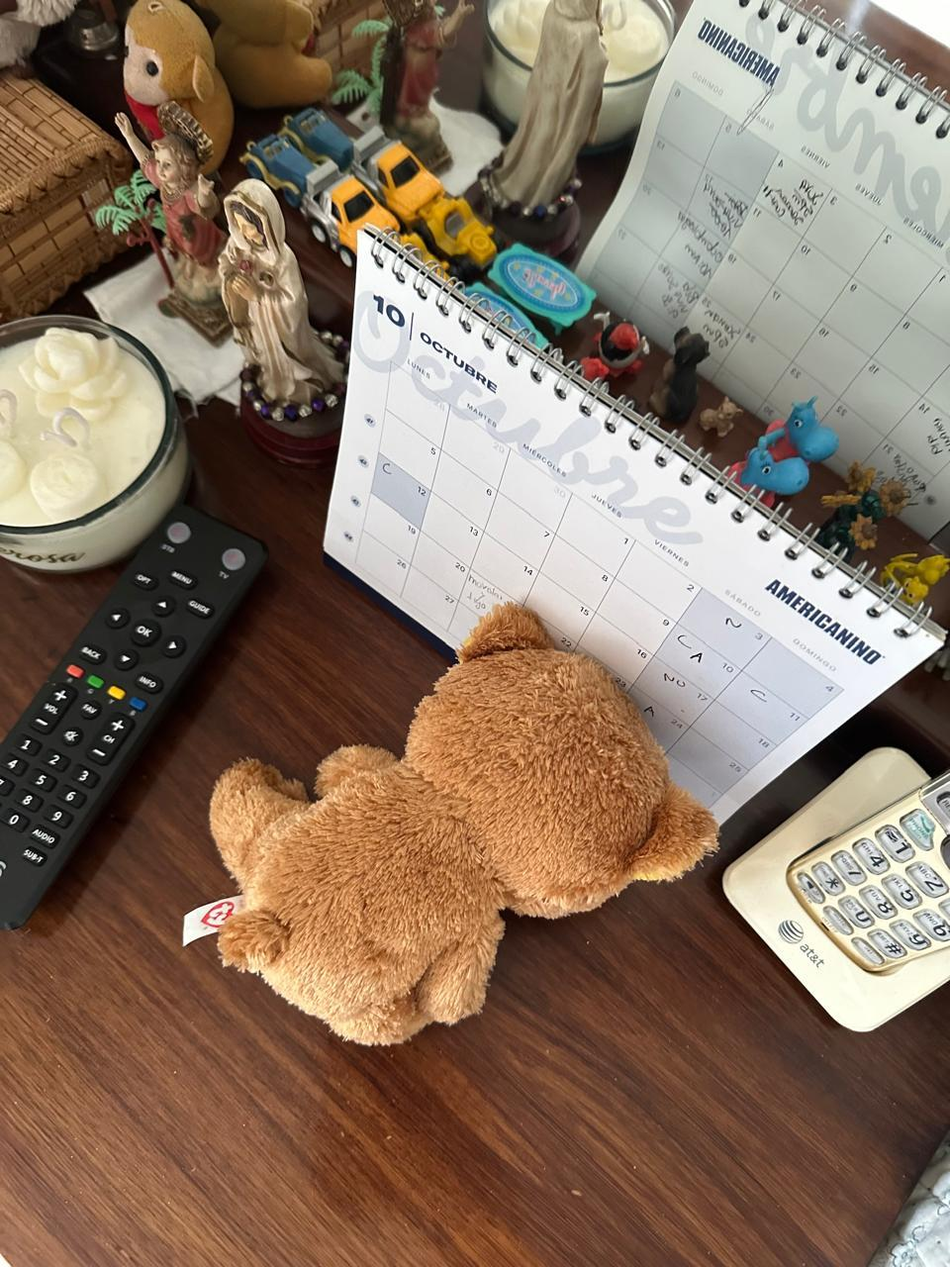peluche_sebastian: (208, 591, 722, 1054)
